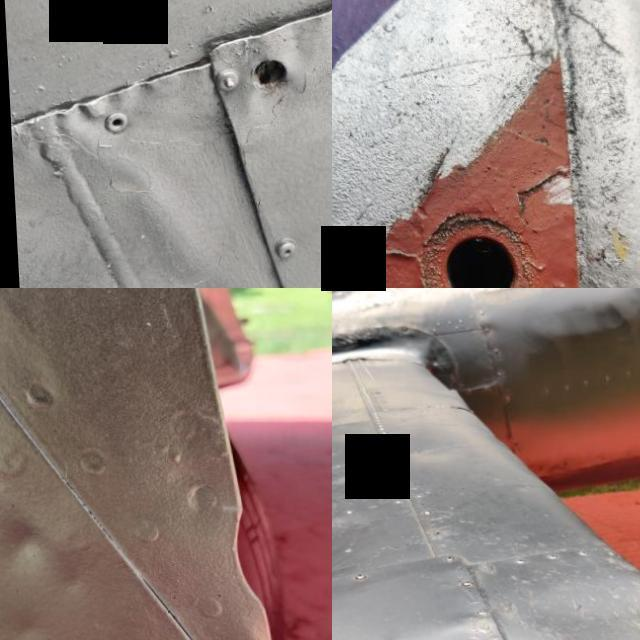Dent: (0, 492, 99, 618), (509, 553, 640, 640)
Missing_Fastener: (332, 134, 606, 288), (180, 0, 331, 131)
